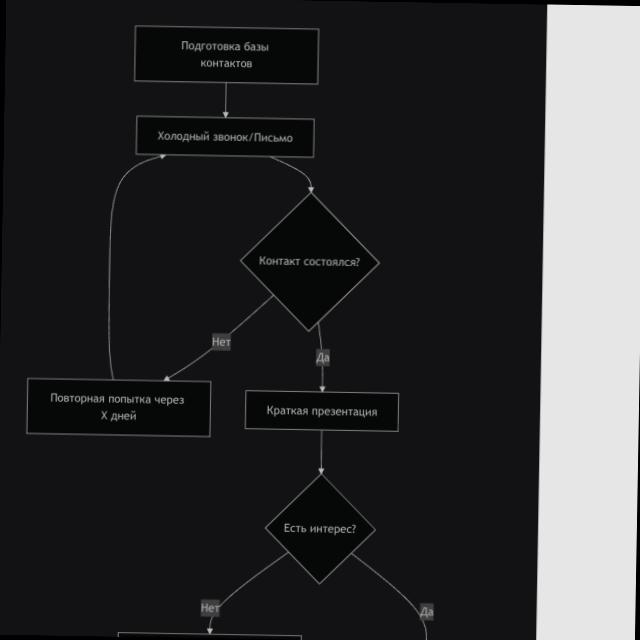arrow: (108, 155, 164, 379), (162, 290, 274, 382), (272, 157, 314, 192), (316, 323, 330, 391), (319, 431, 324, 474), (223, 83, 228, 117)
diamond: (241, 194, 378, 330), (266, 475, 374, 583)
rectangle: (27, 378, 211, 437), (135, 26, 319, 84), (136, 116, 314, 157), (246, 390, 398, 431)
text_region: (210, 336, 232, 346), (314, 350, 332, 362)
